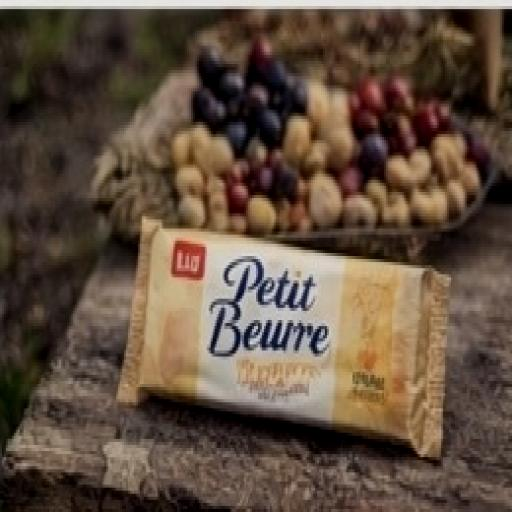petit_beurre: (98, 170, 497, 503)
